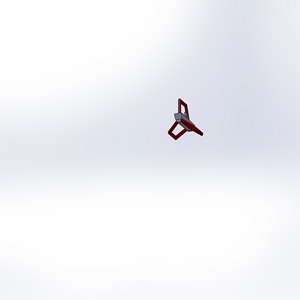submarine: (150, 90, 227, 155)
